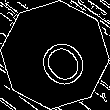O_NW: (22, 22, 88, 88)
